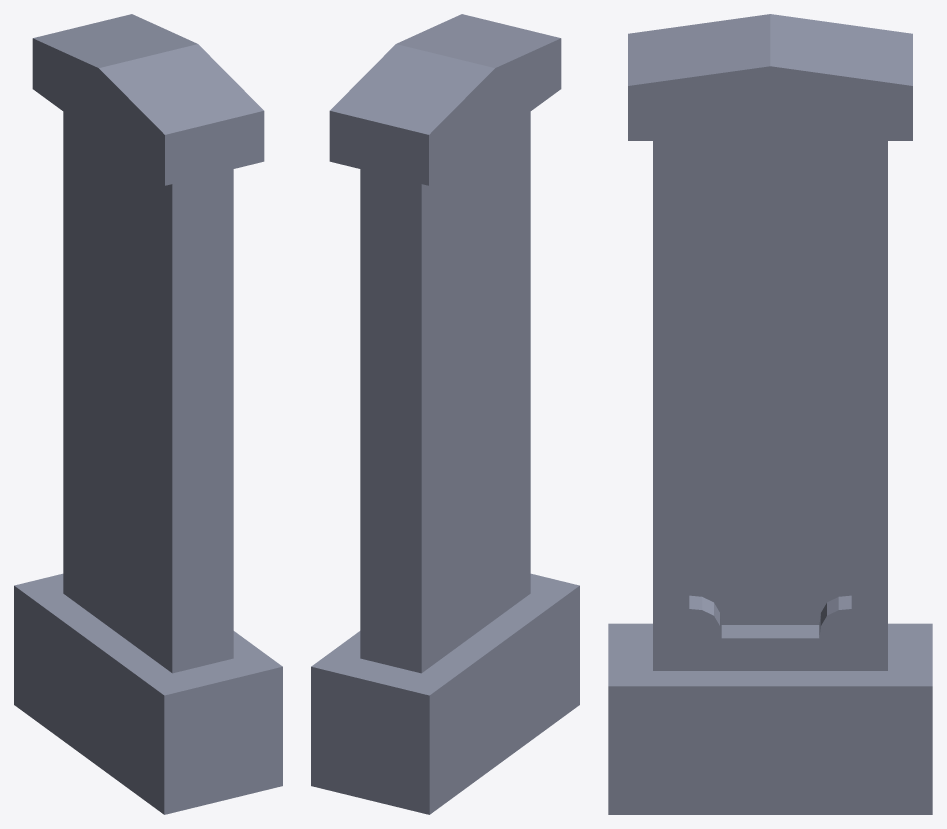
Rendered from EU1Tomb.fbx.
3 views of the same model, side by side, from view 1: azimuth 30°, elevation 25°; view 2: azimuth 150°, elevation 25°; view 3: azimuth 270°, elevation 25° (orthographic). The views are drawn at different scales.
Parts seen in each view (by area): view 1: EU1Tomb; view 2: EU1Tomb; view 3: EU1Tomb.
Boxes of the visible parts, box(x1,y1,x2,y2) form: EU1Tomb: box(14, 14, 282, 814); EU1Tomb: box(311, 14, 579, 814); EU1Tomb: box(608, 14, 932, 814).
Bounding box in the file's own units: 133 × 740 × 292.
